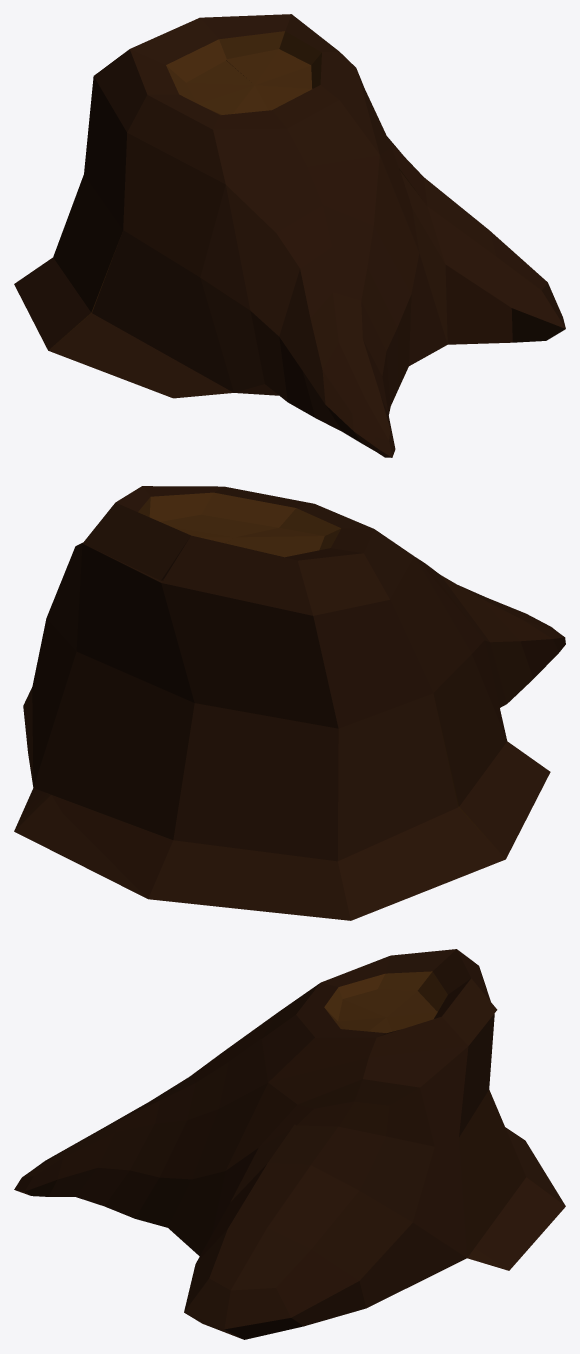
The model's file is Log_03.FBX.
3 views of the same model, one above another, from view 1: azimuth 30°, elevation 25°; view 2: azimuth 150°, elevation 25°; view 3: azimuth 270°, elevation 25° (orthographic). The views are drawn at different scales.
Visible parts, largest first — view 1: Log_03, branch 1; view 2: Log_03, branch 1, Log_3; view 3: Log_03, Log_3, branch 1.
Part boxes in pixels (left/top/right/bottom): Log_03: left=14, top=14, right=565, bottom=457; branch 1: left=250, top=205, right=392, bottom=457; Log_03: left=23, top=486, right=550, bottom=920; branch 1: left=426, top=564, right=565, bottom=707; Log_3: left=14, top=788, right=147, bottom=898; Log_03: left=14, top=949, right=565, bottom=1339; Log_3: left=467, top=1207, right=564, bottom=1270; branch 1: left=25, top=1052, right=228, bottom=1175.
Size of the model in its own units: 5.95 by 3.65 by 6.97.
